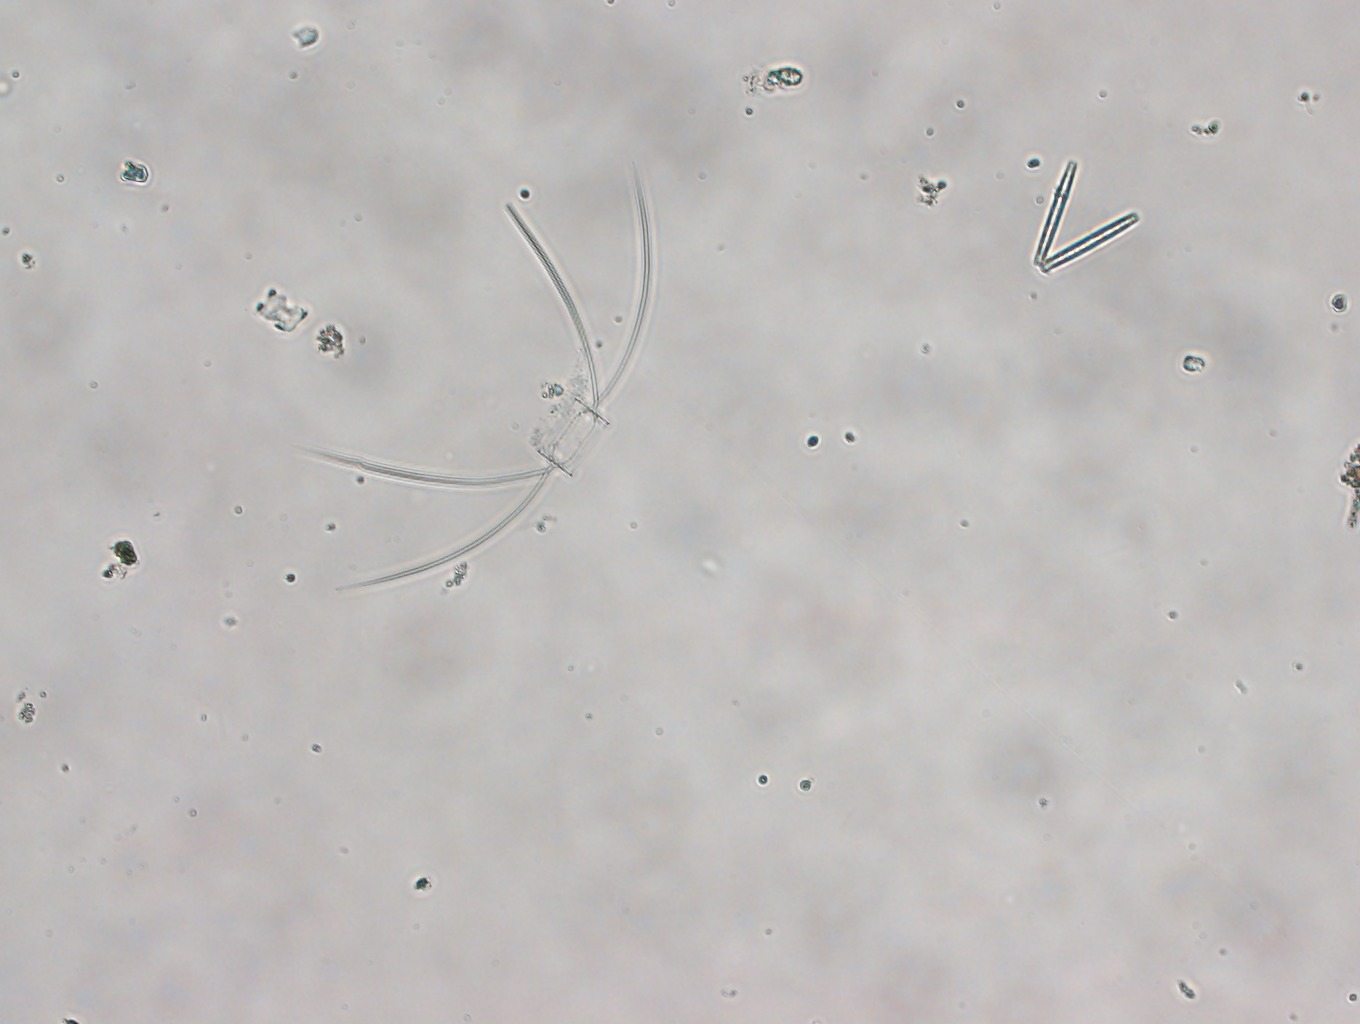chaetoceros: (296, 151, 665, 600)
thalassionema nitzschioides: (1027, 159, 1142, 280)
